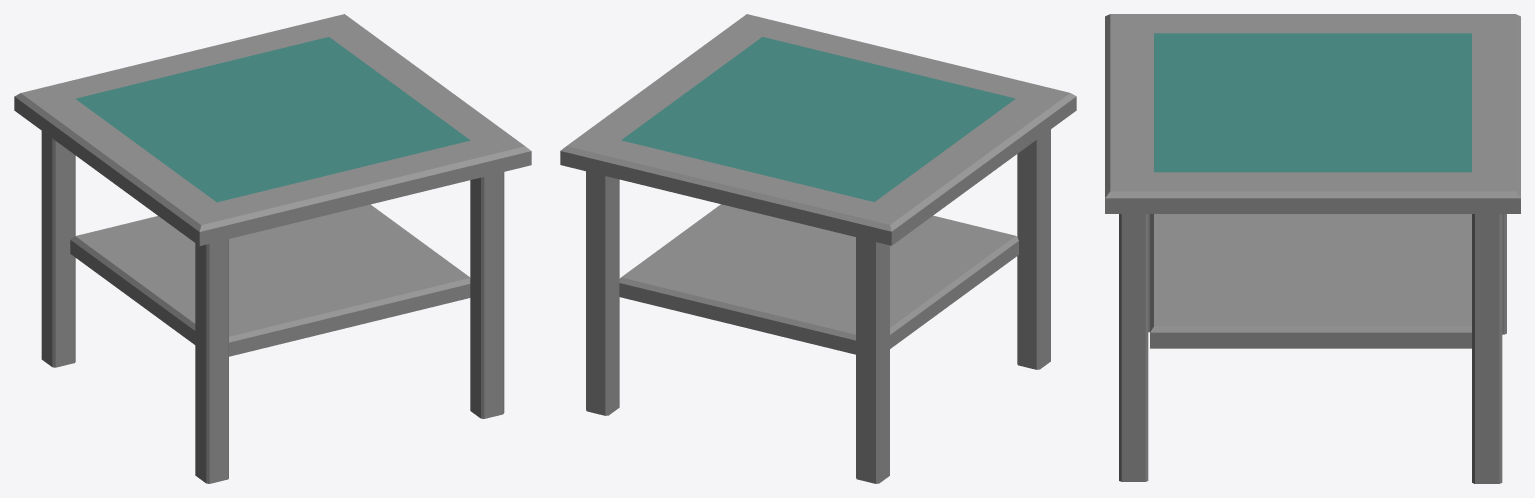
The model's file is Table.fbx.
3 views of the same model, side by side, from view 1: azimuth 30°, elevation 25°; view 2: azimuth 150°, elevation 25°; view 3: azimuth 270°, elevation 25° (orthographic). The views are drawn at different scales.
Parts seen in each view (by area): view 1: Table; view 2: Table; view 3: Table.
Part boxes in pixels (x1,y1,x2,y2): Table: [14, 14, 531, 483]; Table: [560, 14, 1076, 483]; Table: [1105, 14, 1520, 483].
Bounding box in the file's own units: 112 × 85.85 × 108.
